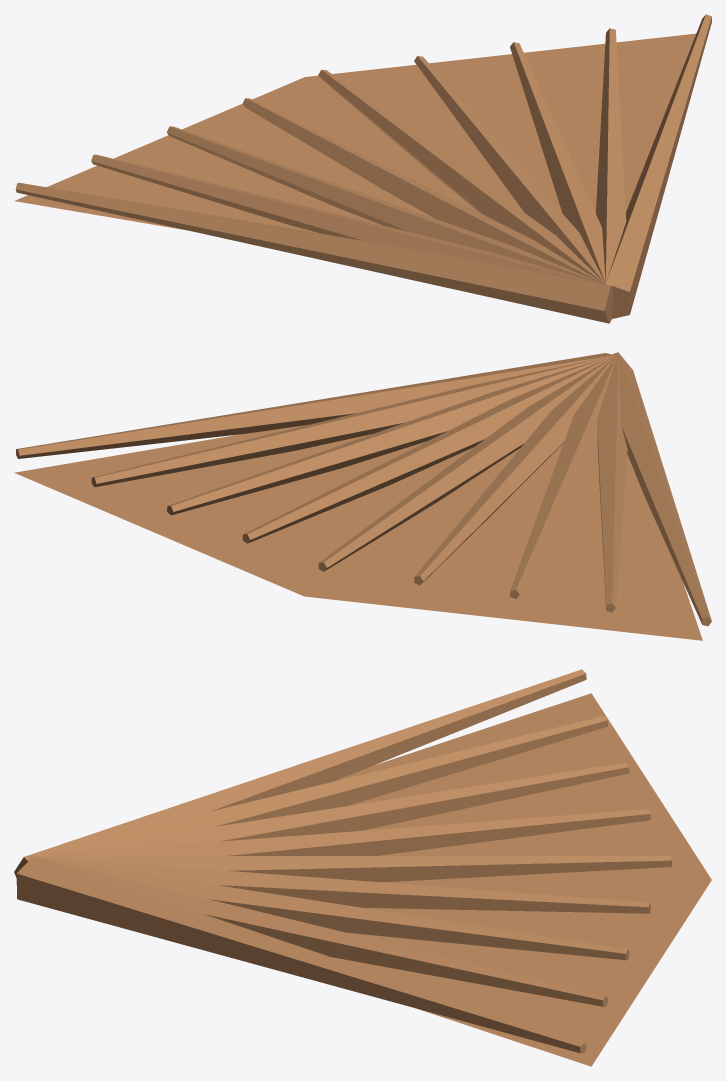
Rendered from PufferfishFin.fbx.
3 views of the same model, one above another, from view 1: azimuth 30°, elevation 25°; view 2: azimuth 150°, elevation 25°; view 3: azimuth 270°, elevation 25° (orthographic). The views are drawn at different scales.
Parts seen in each view (by area): view 1: FinWeb, FinRay8, FinRay7, FinRay0, FinRay6, FinRay5, FinRay4, FinRay3, FinRay2, FinRay1; view 2: FinWeb, FinRay0, FinRay1, FinRay2, FinRay3, FinRay4, FinRay8, FinRay5, FinRay6, FinRay7; view 3: FinWeb, FinRay0, FinRay4, FinRay3, FinRay2, FinRay8, FinRay6, FinRay1, FinRay5, FinRay7.
Part boxes in pixels (<box>): FinWeb: <box>14,33,695,233</box>; FinRay8: <box>15,182,612,323</box>; FinRay7: <box>91,154,611,286</box>; FinRay0: <box>606,14,711,318</box>; FinRay6: <box>167,126,610,285</box>; FinRay5: <box>242,98,608,285</box>; FinRay4: <box>318,69,612,318</box>; FinRay3: <box>414,56,609,285</box>; FinRay2: <box>510,42,608,284</box>; FinRay1: <box>595,28,626,284</box>; FinWeb: <box>14,425,702,640</box>; FinRay0: <box>16,353,613,458</box>; FinRay1: <box>91,354,615,487</box>; FinRay2: <box>167,354,614,515</box>; FinRay3: <box>242,354,615,543</box>; FinRay4: <box>318,354,617,571</box>; FinRay8: <box>612,352,711,626</box>; FinRay5: <box>414,353,617,585</box>; FinRay6: <box>510,353,618,598</box>; FinRay7: <box>597,353,627,612</box>; FinWeb: <box>331,693,711,1066</box>; FinRay0: <box>16,856,586,1053</box>; FinRay4: <box>28,855,671,882</box>; FinRay3: <box>29,856,650,913</box>; FinRay2: <box>29,856,629,960</box>; FinRay8: <box>14,669,586,877</box>; FinRay6: <box>26,762,629,860</box>; FinRay1: <box>26,856,608,1006</box>; FinRay5: <box>27,809,650,860</box>; FinRay7: <box>25,716,607,859</box>.
Size of the model in its own units: 0.4443 by 0.0243 by 0.3475.
